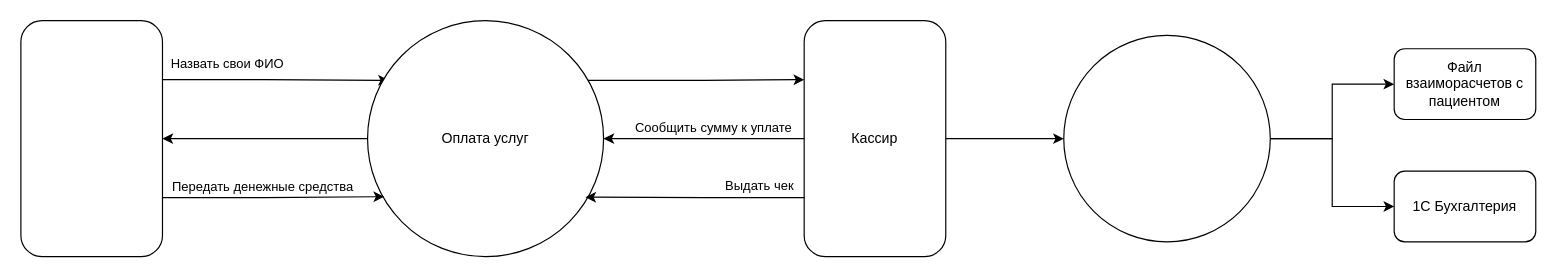
Image size: 1556x277. Some labels were removed from this diagram. The shapes that lost their labels are listed below. From the top down, each one's centre as x and y in pixels, then its label:
At [91,138]: "Пациент".
At [1166,138]: "Учёт".
